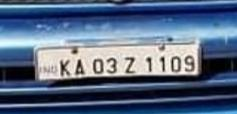0: (91, 57, 105, 75), (170, 54, 182, 73)
1: (158, 54, 167, 74), (145, 55, 153, 73)
3: (105, 56, 118, 74)
9: (183, 53, 195, 75)
A: (72, 57, 86, 77)
K: (58, 57, 71, 77)
Z: (123, 54, 136, 75)
